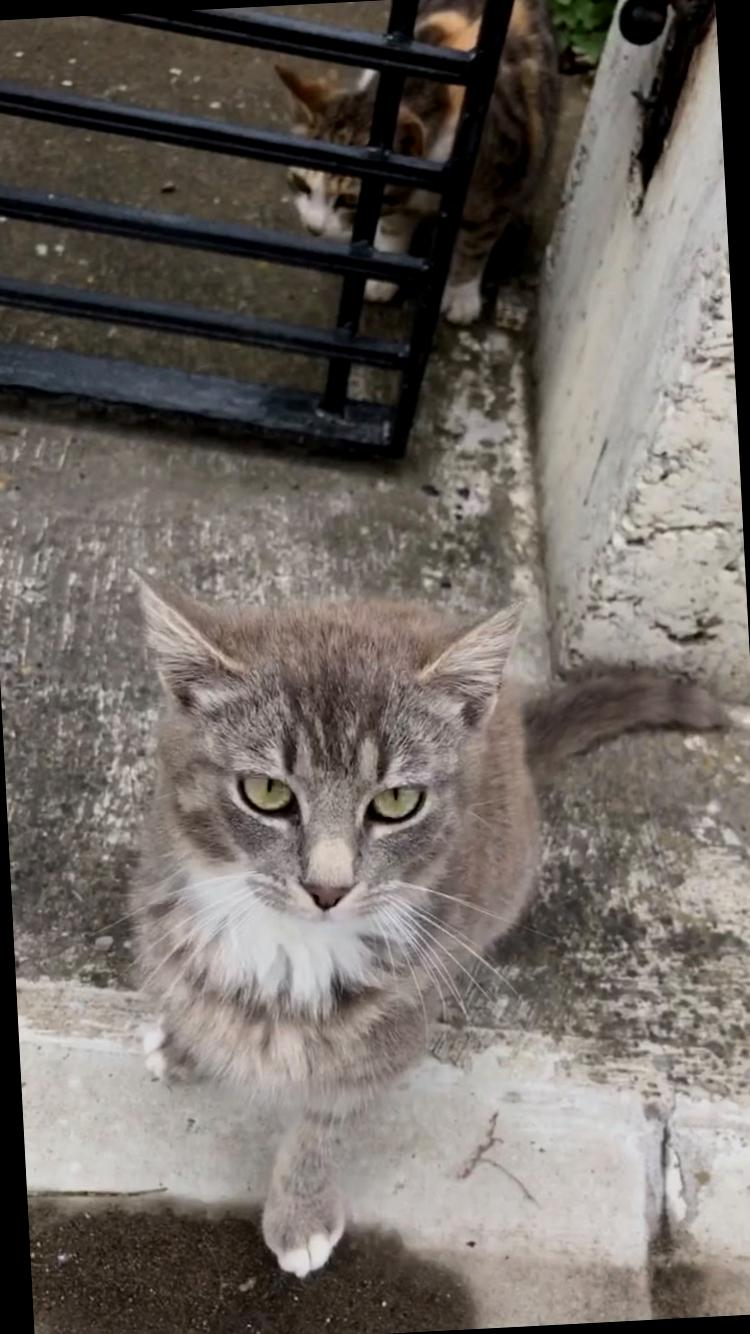macka: (115, 537, 750, 1280)
